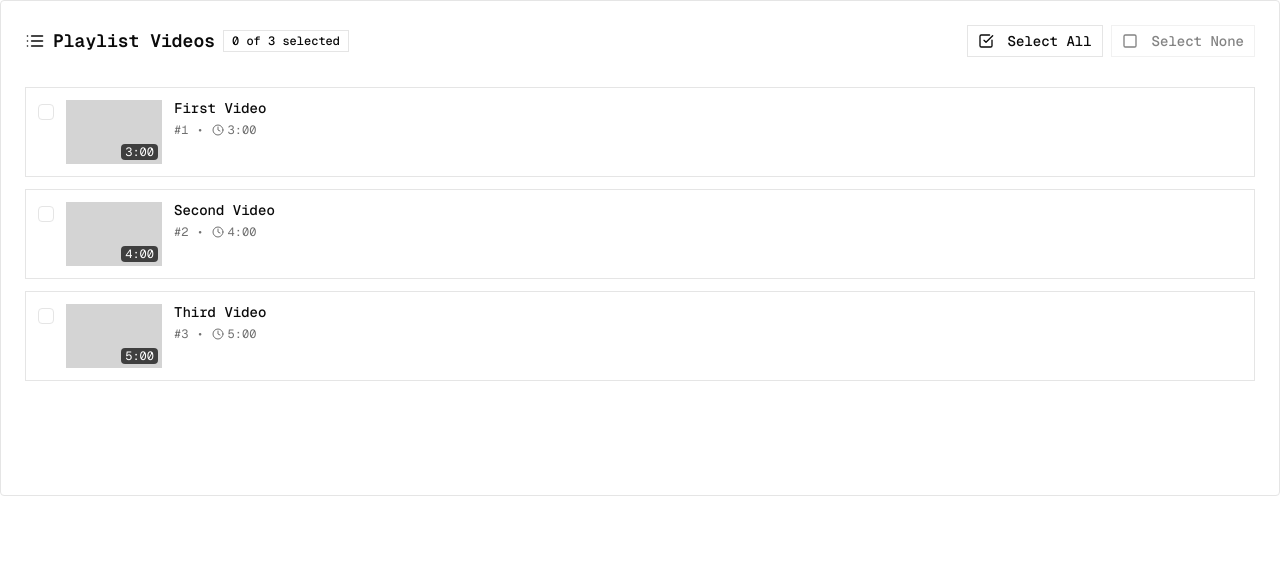
Test: PlaylistViewer › calculates total duration correctly
# Select all videos
Click the button "Select All".
click(1035, 41)  # box x1=967 y1=25 x2=1103 y2=57
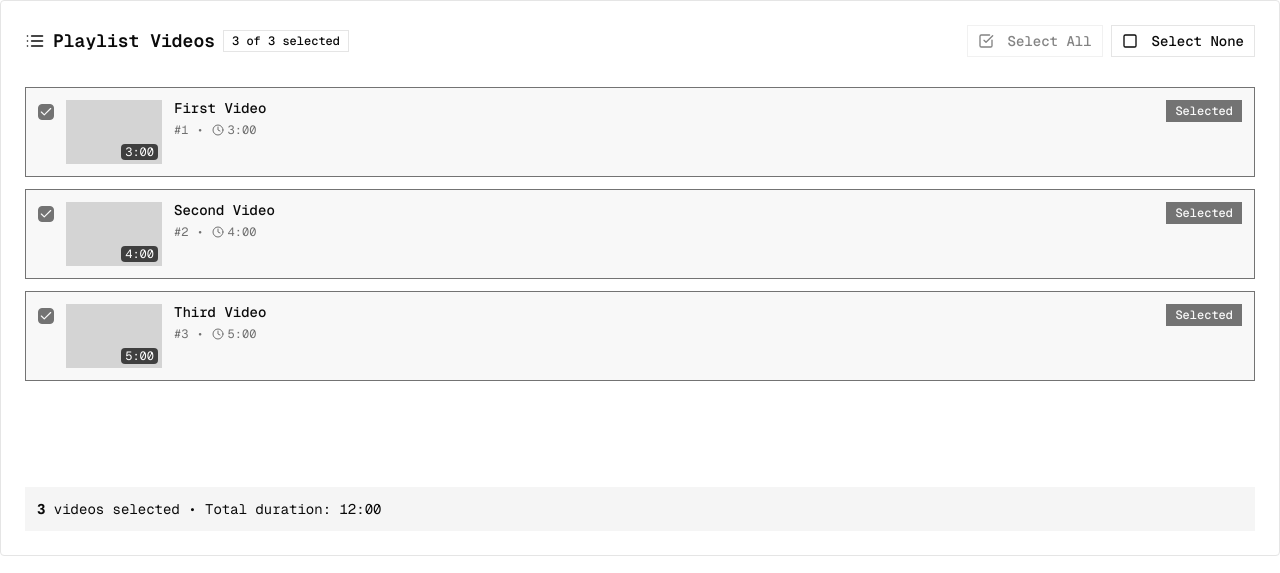
Expected: the text "3 videos selected • Total duration: 12:00" is shown, x1=37 y1=500 x2=381 y2=518
